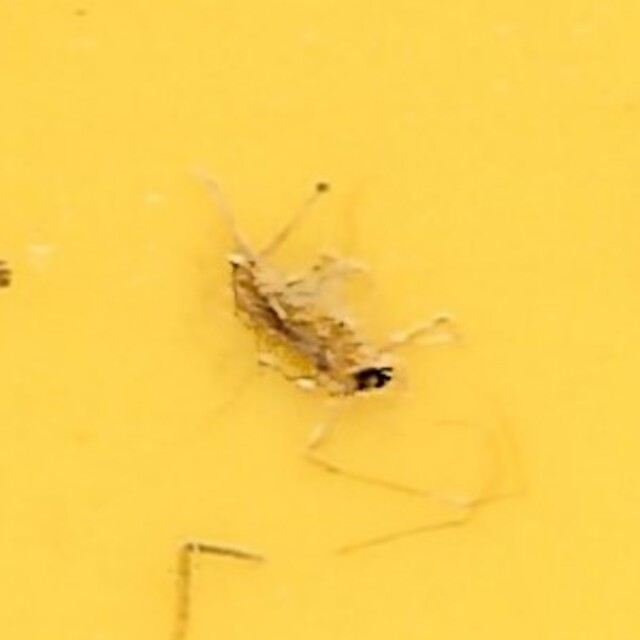Nematocera: (213, 221, 427, 419)
